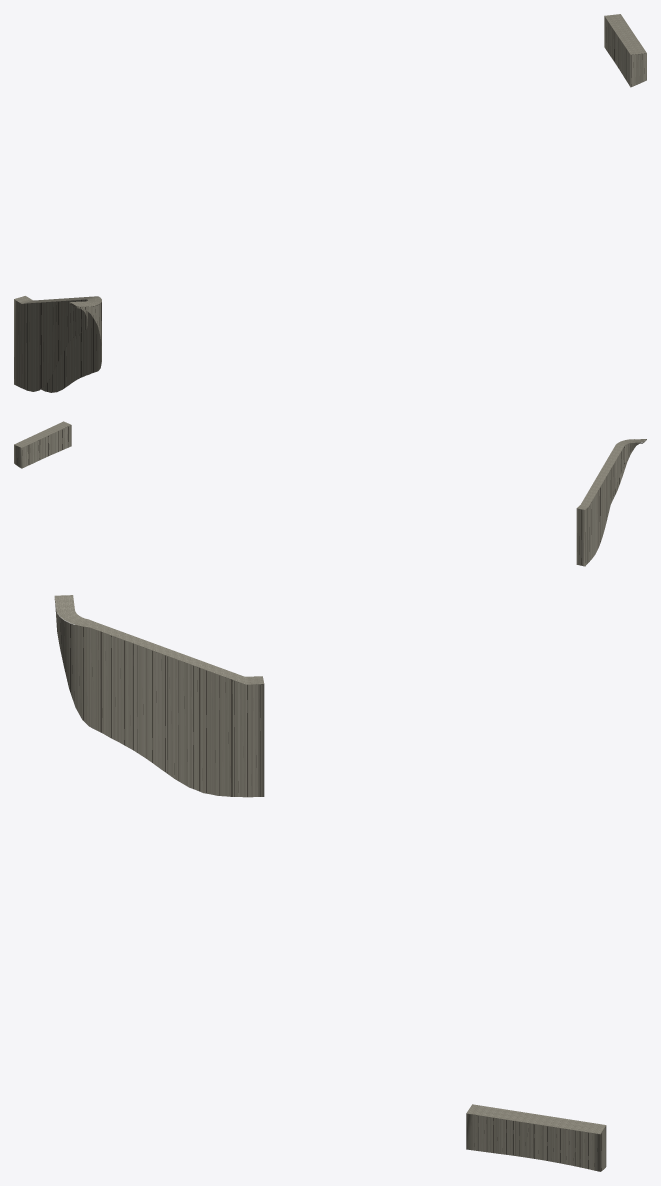
File: access-decks.glb
3 views of the same model, one above another, from view 1: azimuth 30°, elevation 25°; view 2: azimuth 150°, elevation 25°; view 3: azimuth 270°, elevation 25° (orthographic). The views are drawn at different scales.
Visible parts, largest first — view 1: AccessDeck_Edge_Westhaven_FerryLandingStair, AccessDeck_Edge_Westhaven_LampCausewayLink, Walk_Westhaven_LampCausewayLink; view 2: AccessDeck_Edge_Westhaven_FerryLandingStair, AccessDeck_Edge_Westhaven_LampCausewayLink, Walk_Westhaven_FerryLandingStair, Walk_Westhaven_LampCausewayLink; view 3: AccessDeck_Edge_Westhaven_FerryLandingStair, AccessDeck_Edge_Westhaven_LampCausewayLink, Walk_Westhaven_FerryLandingStair, Walk_Westhaven_LampCausewayLink.
Boxes of the visible parts, x1,y1,x2,y2 form: AccessDeck_Edge_Westhaven_FerryLandingStair: (14, 299, 101, 392); AccessDeck_Edge_Westhaven_LampCausewayLink: (604, 16, 646, 87); Walk_Westhaven_LampCausewayLink: (604, 14, 646, 54); AccessDeck_Edge_Westhaven_FerryLandingStair: (576, 439, 646, 566); AccessDeck_Edge_Westhaven_LampCausewayLink: (14, 425, 71, 468); Walk_Westhaven_FerryLandingStair: (577, 439, 646, 509); Walk_Westhaven_LampCausewayLink: (14, 421, 70, 447); AccessDeck_Edge_Westhaven_FerryLandingStair: (54, 598, 264, 797); AccessDeck_Edge_Westhaven_LampCausewayLink: (466, 1113, 606, 1171); Walk_Westhaven_FerryLandingStair: (54, 595, 264, 684); Walk_Westhaven_LampCausewayLink: (466, 1104, 606, 1134).
Bounding box in the file's own units: 154 × 27.26 × 74.05.
1 material, 1 textured.
